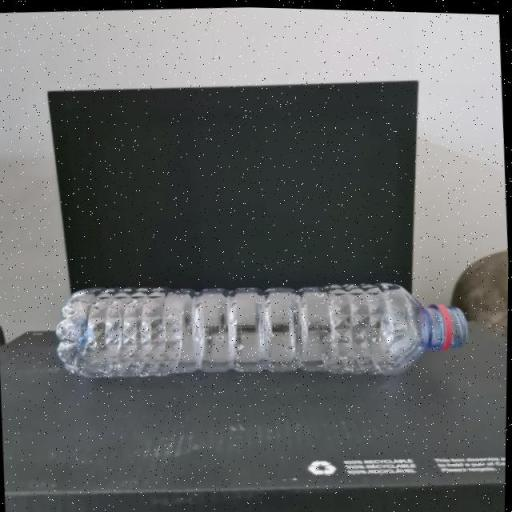plastic: (42, 263, 476, 400)
